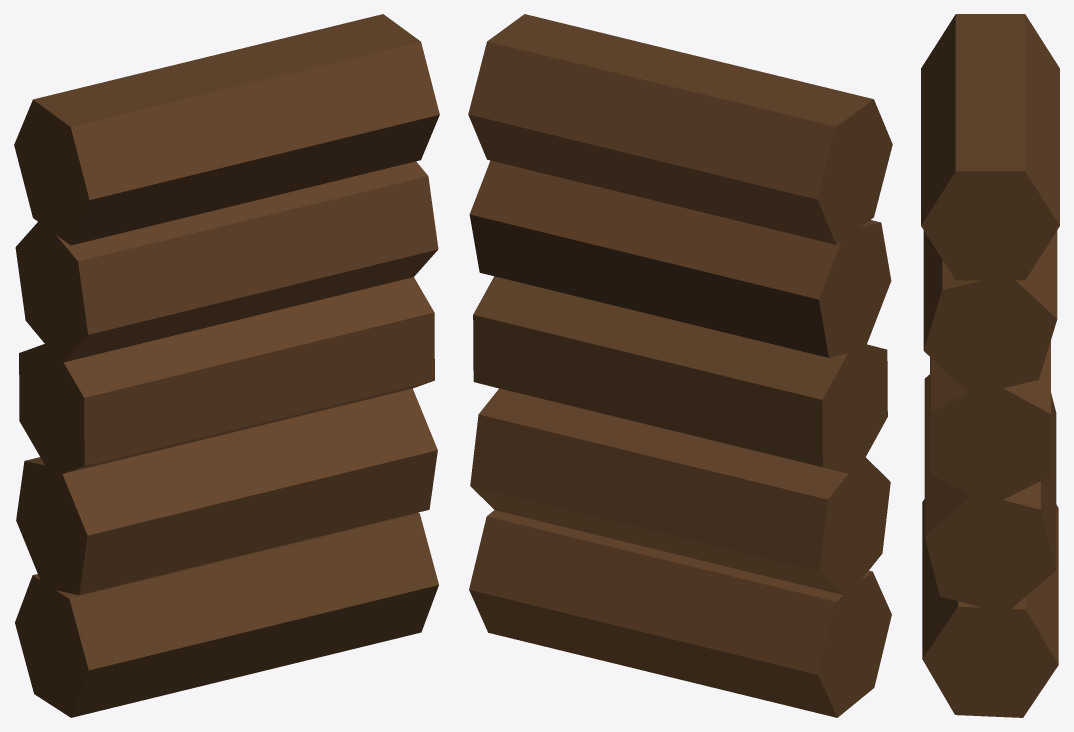
File: wood_wall_mini.glb
3 views of the same model, side by side, from view 1: azimuth 30°, elevation 25°; view 2: azimuth 150°, elevation 25°; view 3: azimuth 270°, elevation 25° (orthographic). The views are drawn at different scales.
Parts seen in each view (by area): view 1: Cylinder.001; view 2: Cylinder.001; view 3: Cylinder.001.
Part boxes in pixels (x1=…): Cylinder.001: x1=14, y1=14, x2=439, y2=717; Cylinder.001: x1=468, y1=14, x2=892, y2=717; Cylinder.001: x1=921, y1=14, x2=1059, y2=717.
Size of the model in its own units: 0.8267 by 1.34 by 0.3086.
